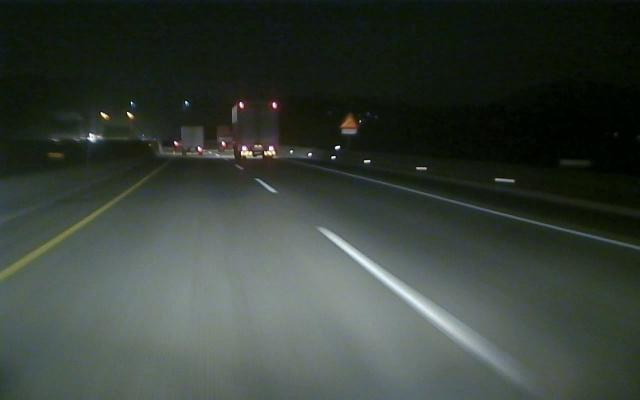lane: (256, 179, 539, 396), (400, 185, 640, 252), (1, 182, 139, 281)
